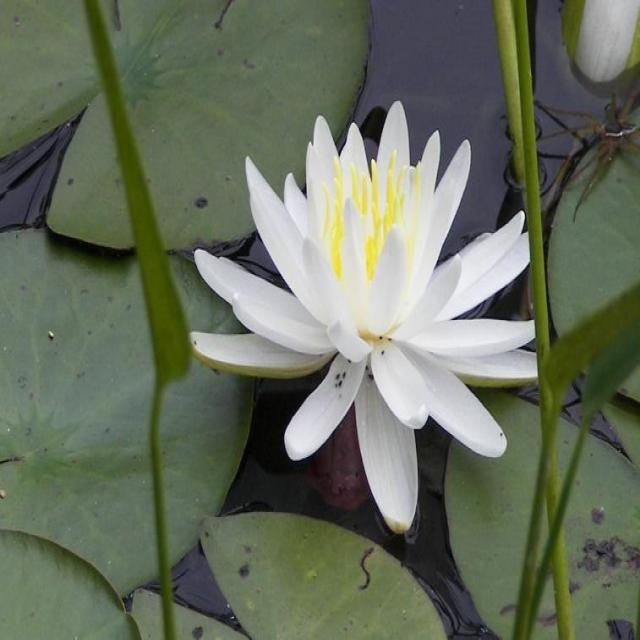water-lily: (182, 95, 540, 491)
